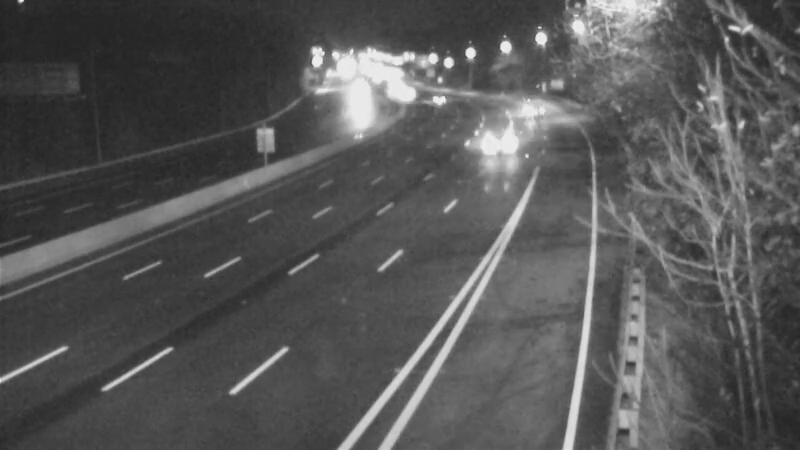vehicle: (411, 75, 461, 125), (505, 82, 555, 132), (472, 111, 522, 161)
